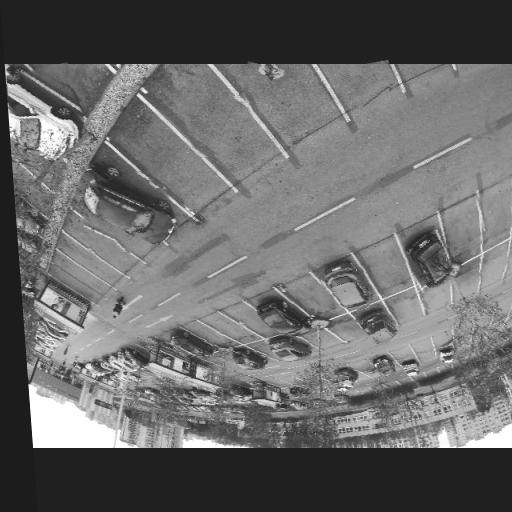busy: (73, 171, 176, 245), (5, 66, 88, 156), (404, 230, 456, 292), (318, 264, 373, 309), (254, 300, 311, 335), (355, 310, 400, 344), (167, 331, 215, 357), (264, 337, 312, 361), (227, 348, 266, 370), (115, 348, 151, 368), (35, 321, 70, 341), (367, 354, 396, 377), (105, 352, 136, 371), (331, 366, 358, 383), (185, 387, 215, 399), (435, 345, 455, 362), (400, 361, 421, 377), (93, 359, 118, 372), (289, 387, 311, 399)
free: (239, 65, 323, 121), (182, 97, 259, 156), (336, 62, 397, 108), (145, 149, 203, 187), (443, 212, 482, 247), (365, 254, 409, 284), (476, 194, 512, 230), (478, 252, 509, 278), (295, 287, 328, 310), (420, 287, 451, 308), (389, 298, 421, 318), (452, 272, 481, 294), (88, 240, 119, 259), (115, 226, 135, 252), (333, 322, 361, 338), (239, 313, 265, 330), (434, 330, 458, 346), (79, 256, 102, 270), (309, 332, 331, 346), (220, 324, 243, 336), (76, 270, 92, 287), (414, 343, 433, 355), (202, 331, 224, 341), (352, 360, 371, 371), (256, 344, 274, 355), (416, 348, 434, 359), (393, 348, 411, 358), (420, 354, 435, 362), (509, 244, 512, 266)
